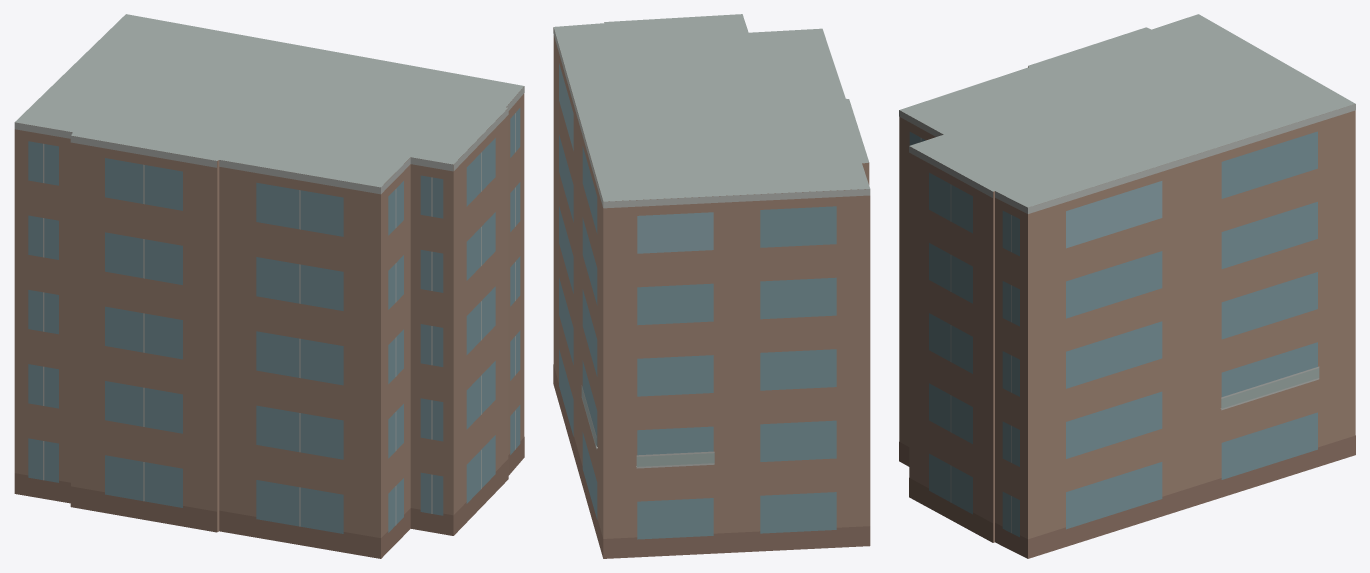
File: survey-upis-32528468.glb
3 renders of one model, left to right at view 1: azimuth 30°, elevation 25°; view 2: azimuth 150°, elevation 25°; view 3: azimuth 270°, elevation 25°, orthographic. The views are drawn at different scales.
Visible parts, largest first — view 1: survey-upis-32528468.tmp; view 2: survey-upis-32528468.tmp; view 3: survey-upis-32528468.tmp.
Part boxes in pixels (x1=…): survey-upis-32528468.tmp: x1=14, y1=14, x2=524, y2=558; survey-upis-32528468.tmp: x1=553, y1=14, x2=870, y2=558; survey-upis-32528468.tmp: x1=899, y1=14, x2=1355, y2=558.
Size of the model in its own units: 15.5 by 13.1 by 15.44.
